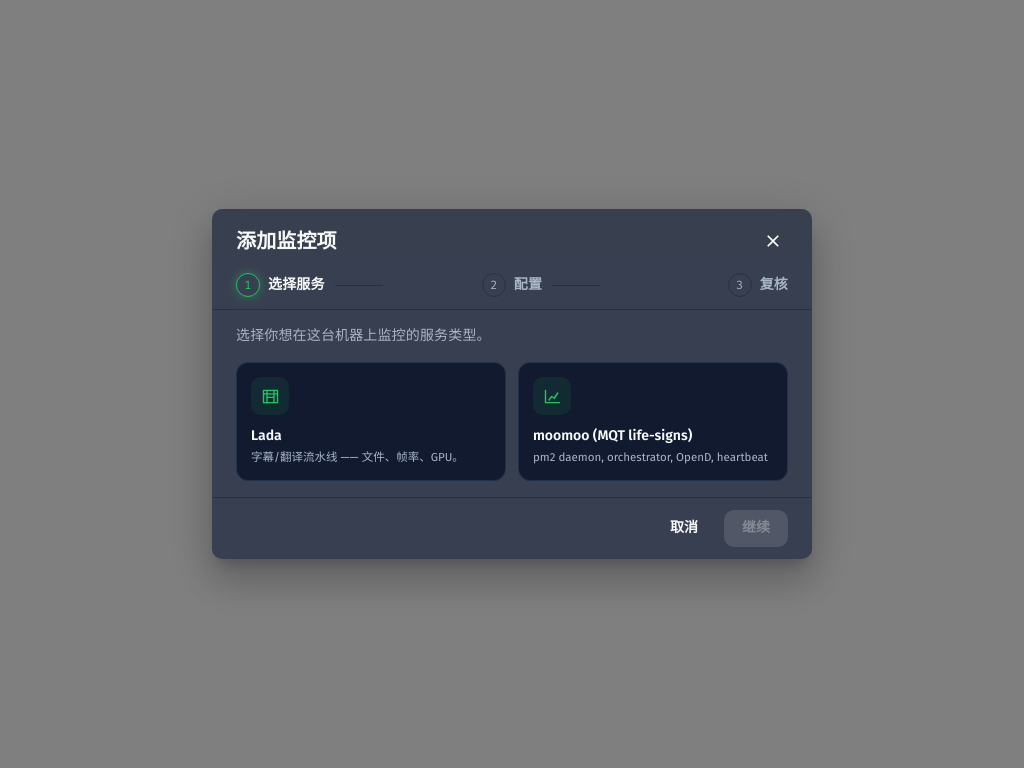
MonitorWizard › Continue is disabled until a service is chosen
The width and height of the screenshot is (1024, 768).
Expected: the button "继续" is disabled, top-left (724, 510), bottom-right (788, 547)
Click the text "Lada": (266, 436) top-left (251, 427), bottom-right (282, 444)
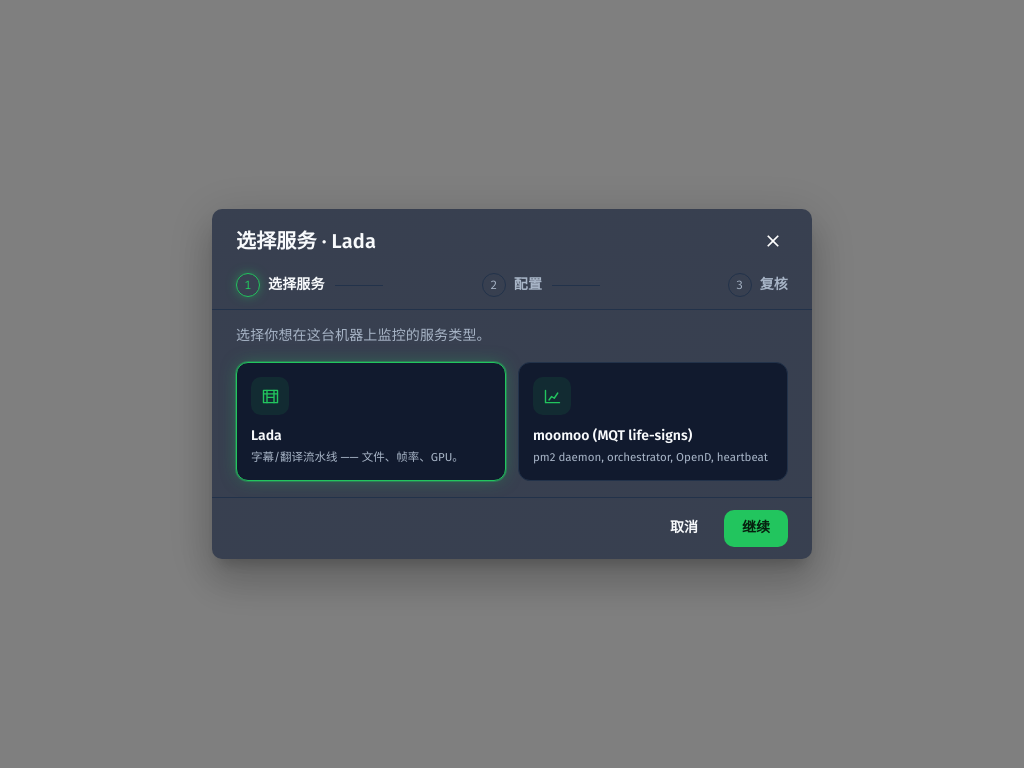
Result: the button "继续" is enabled at top-left (724, 510), bottom-right (788, 547)
